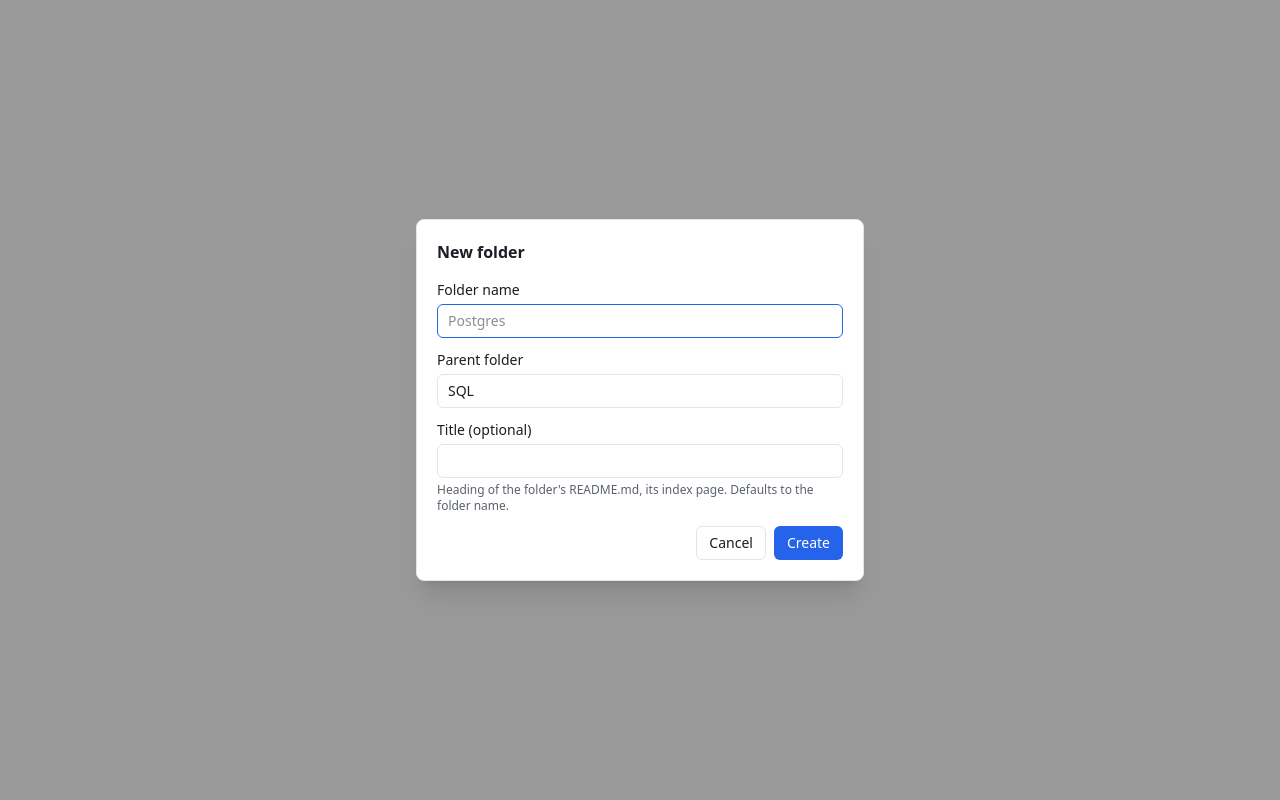
it: NewFolderDialog › validates
What coordinates should you click on to do the following:
click the button "Create"
I would click on:
 (808, 543)
Its box is 774,526 -> 843,560.
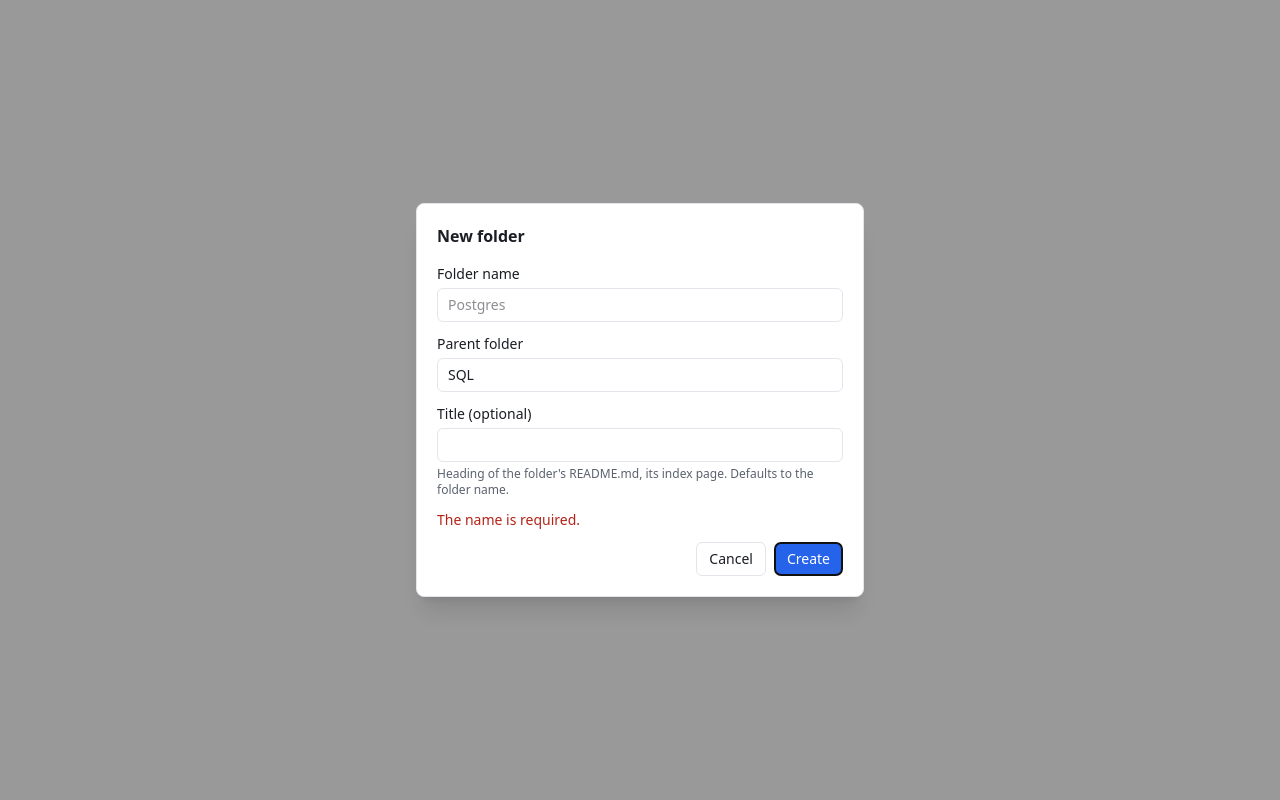
Check: the message reads "The name is required.", box 437,510 -> 580,529
